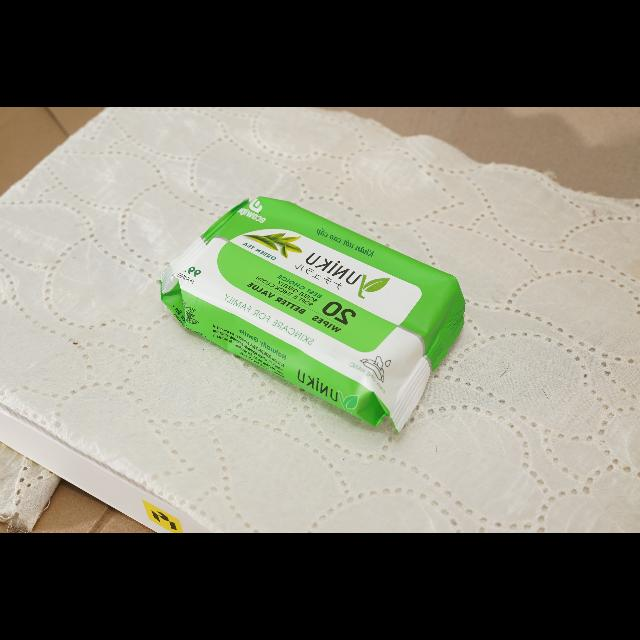khan_giay: (160, 197, 465, 433)
